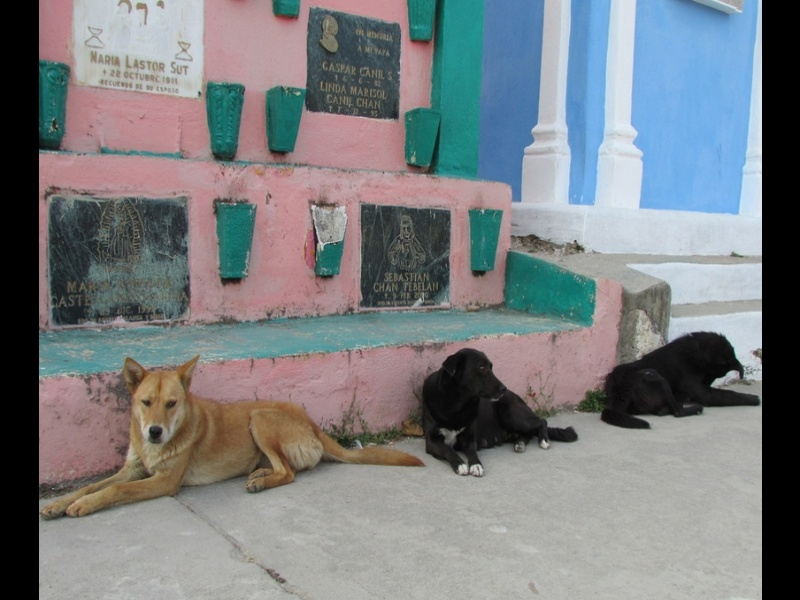dog: (41, 362, 422, 520), (418, 344, 582, 486), (596, 326, 757, 433)
